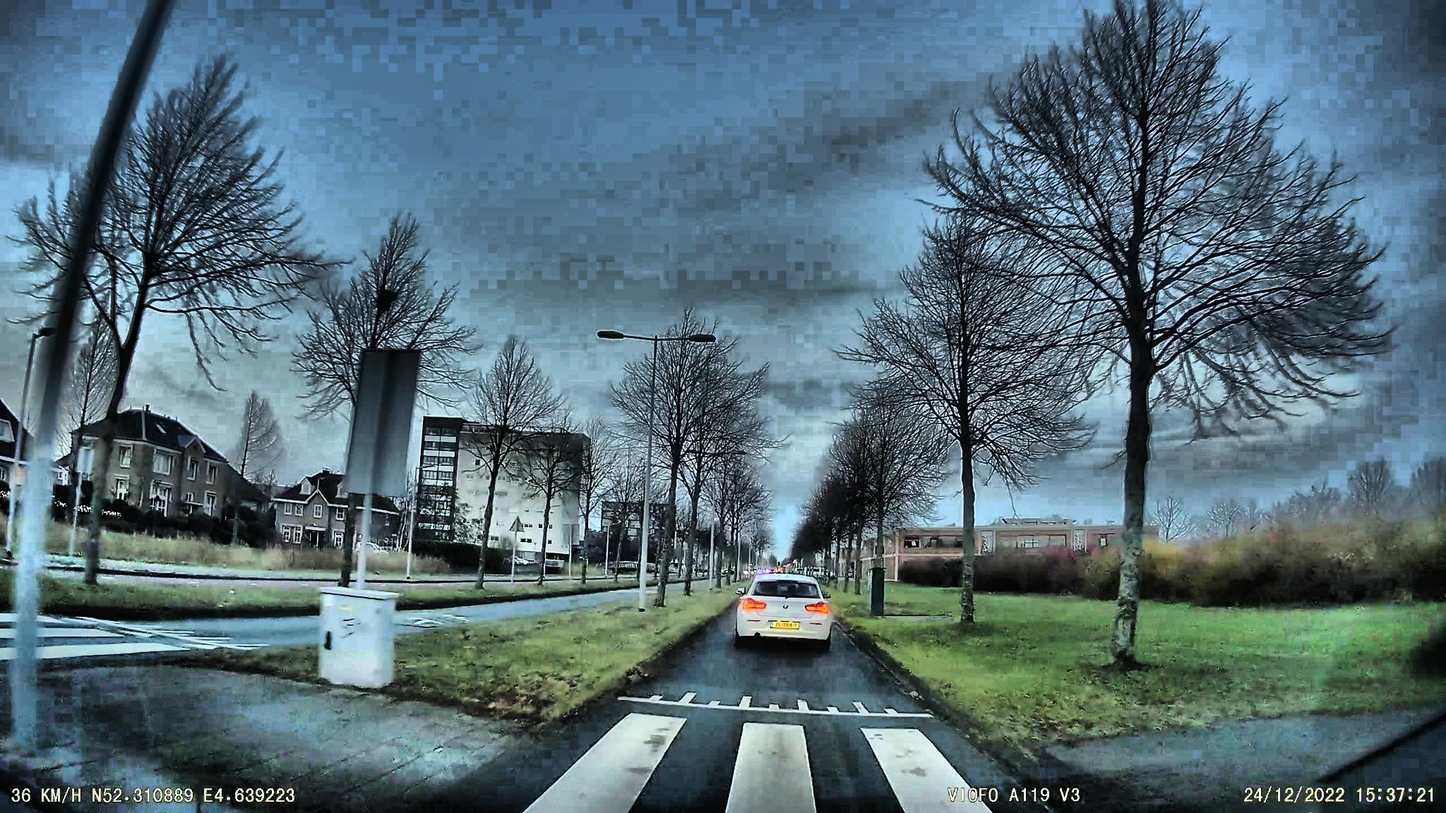Roads: (521, 608, 1083, 813)
